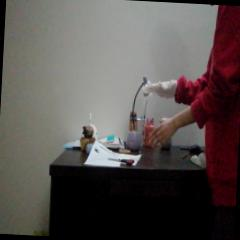gloved: (142, 80, 176, 100)
not-gloved: (150, 115, 178, 155)
